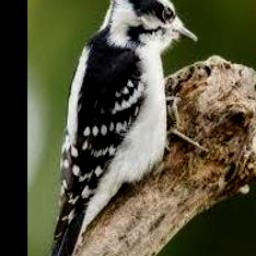Woodpecker: (34, 0, 210, 256)
